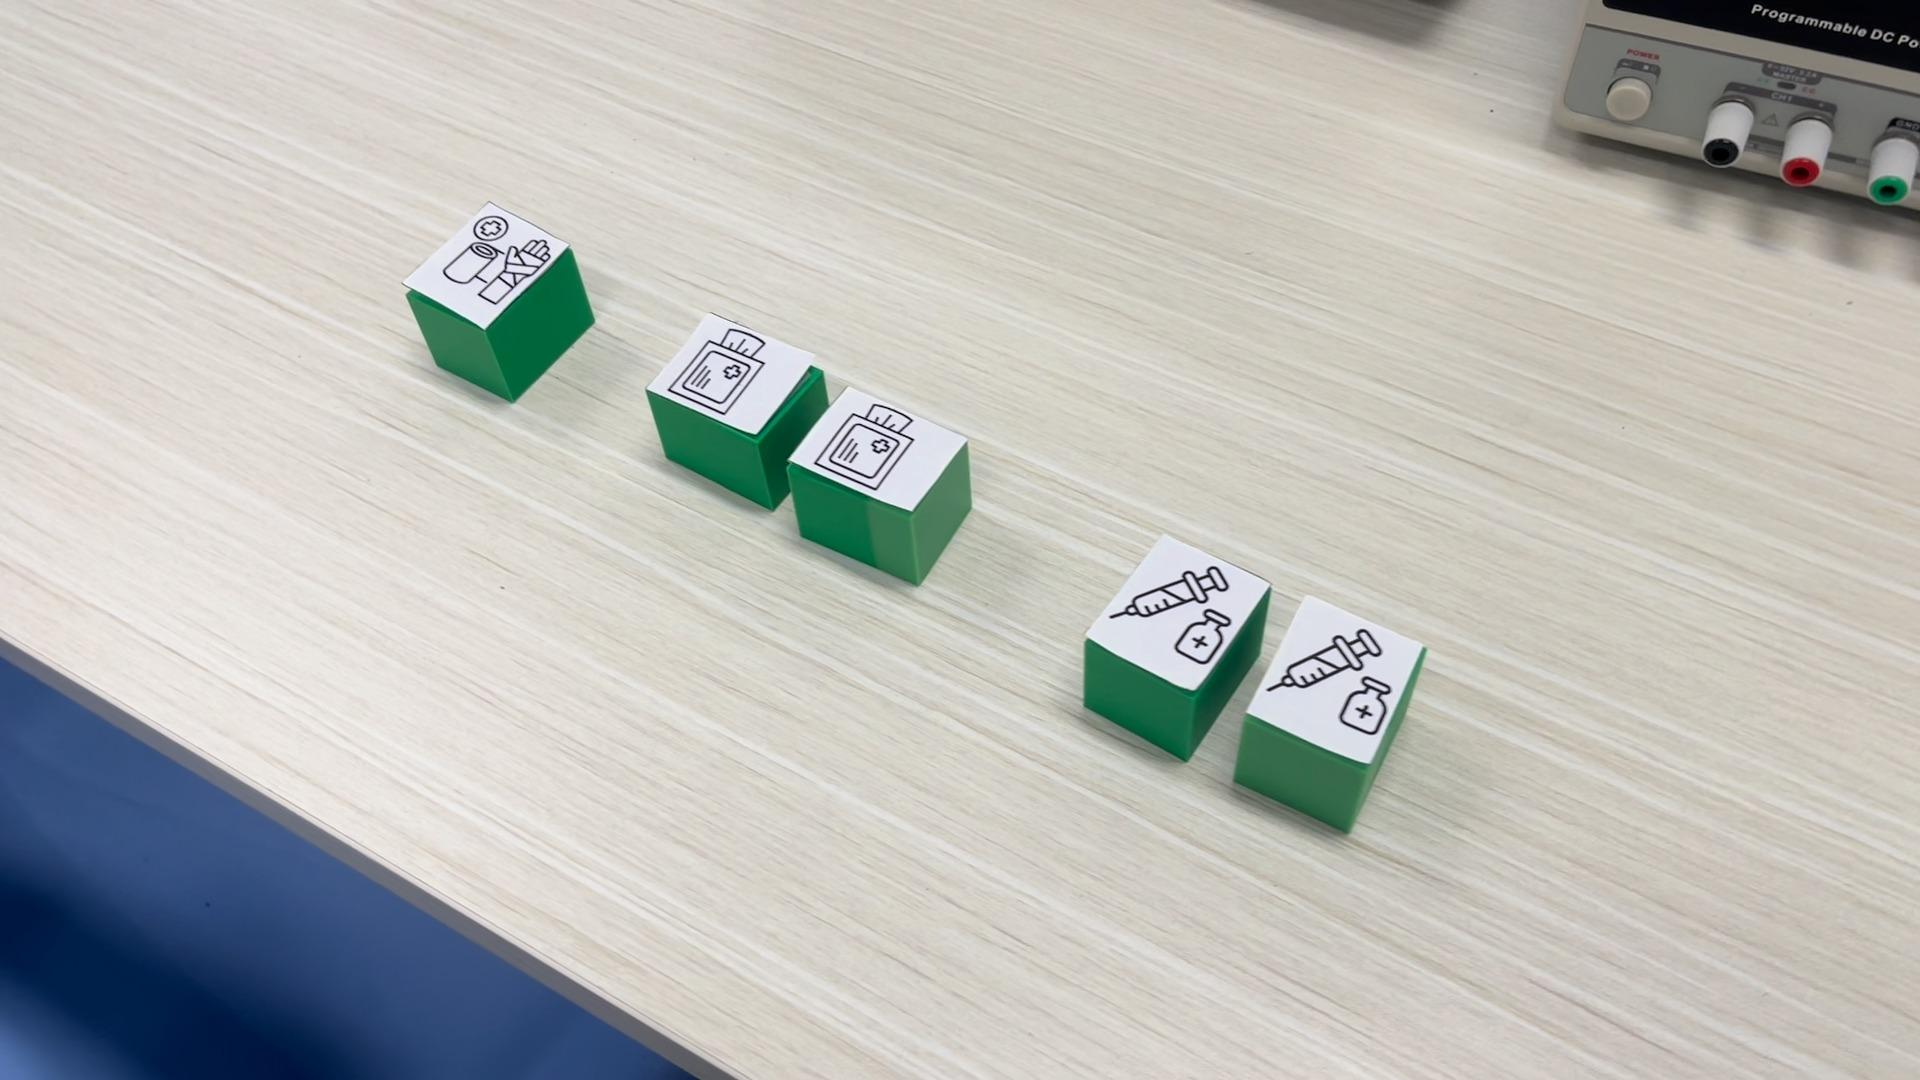Bandages: (400, 200, 593, 404)
Gauze: (789, 384, 973, 585), (645, 310, 827, 446)
antiseptic cream: (1233, 595, 1428, 833), (1085, 535, 1270, 764)
